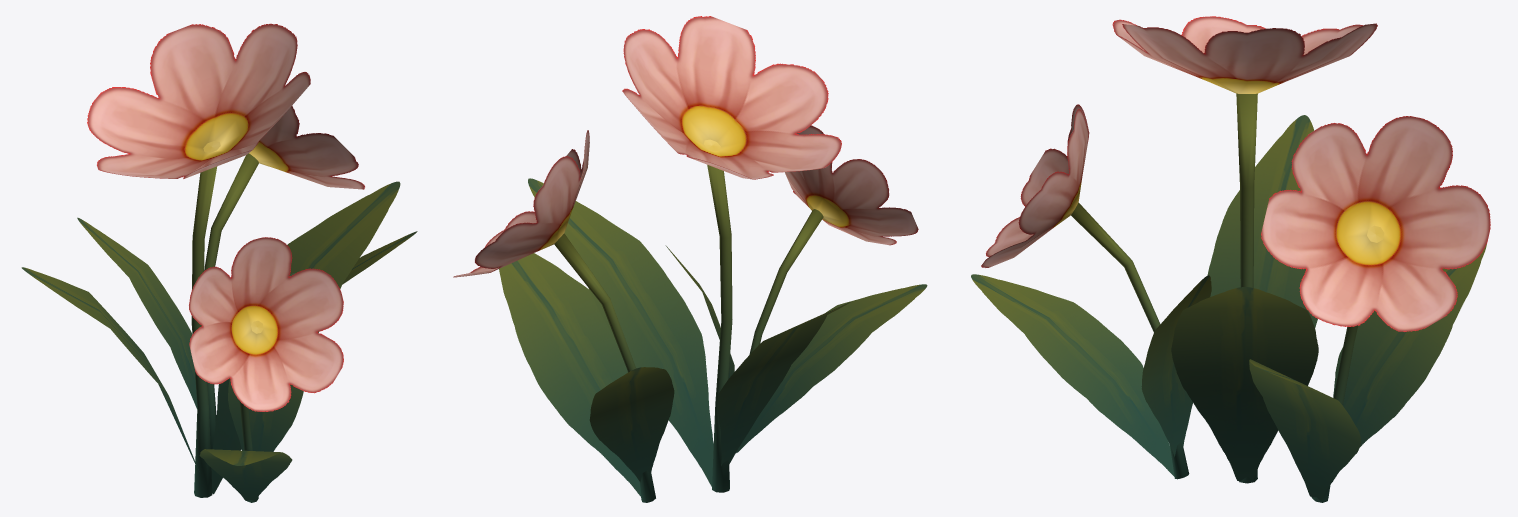
Rendered from Multi-Flowers #1.fbx.
3 renders of one model, left to right at view 1: azimuth 30°, elevation 25°; view 2: azimuth 150°, elevation 25°; view 3: azimuth 270°, elevation 25°, orthographic. The views are drawn at different scales.
Parts seen in each view (by area): view 1: Multi-Flowers #1; view 2: Multi-Flowers #1; view 3: Multi-Flowers #1.
Part boxes in pixels (x1,y1,x2,y2): Multi-Flowers #1: (21,23,417,502); Multi-Flowers #1: (453,16,927,502); Multi-Flowers #1: (971,16,1490,502).
Size of the model in its own units: 37.53 by 40.8 by 39.87.
Materials: 1 (1 with a texture image).
